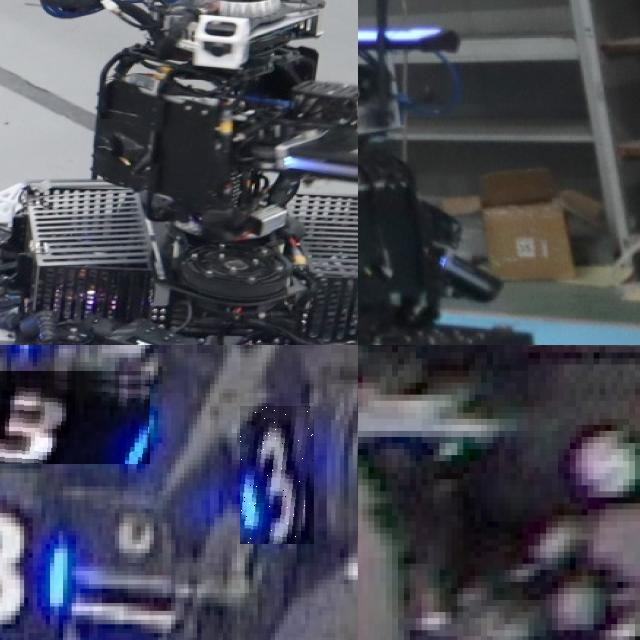B3: (0, 370, 149, 464), (240, 406, 314, 544), (0, 504, 67, 624)
